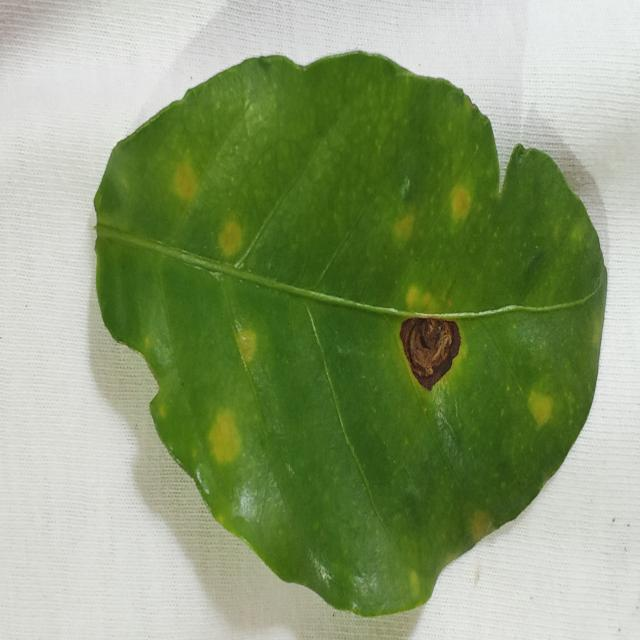Enfermedad-Roya: (91, 51, 608, 619)
